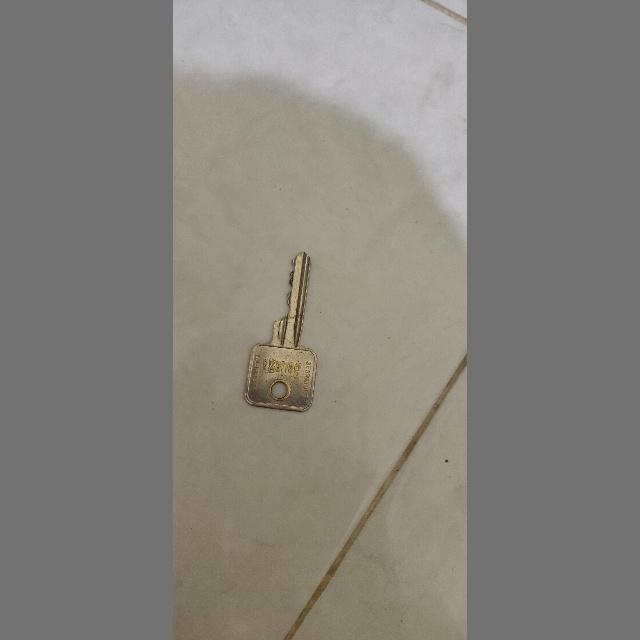Keys: (238, 243, 320, 422)
